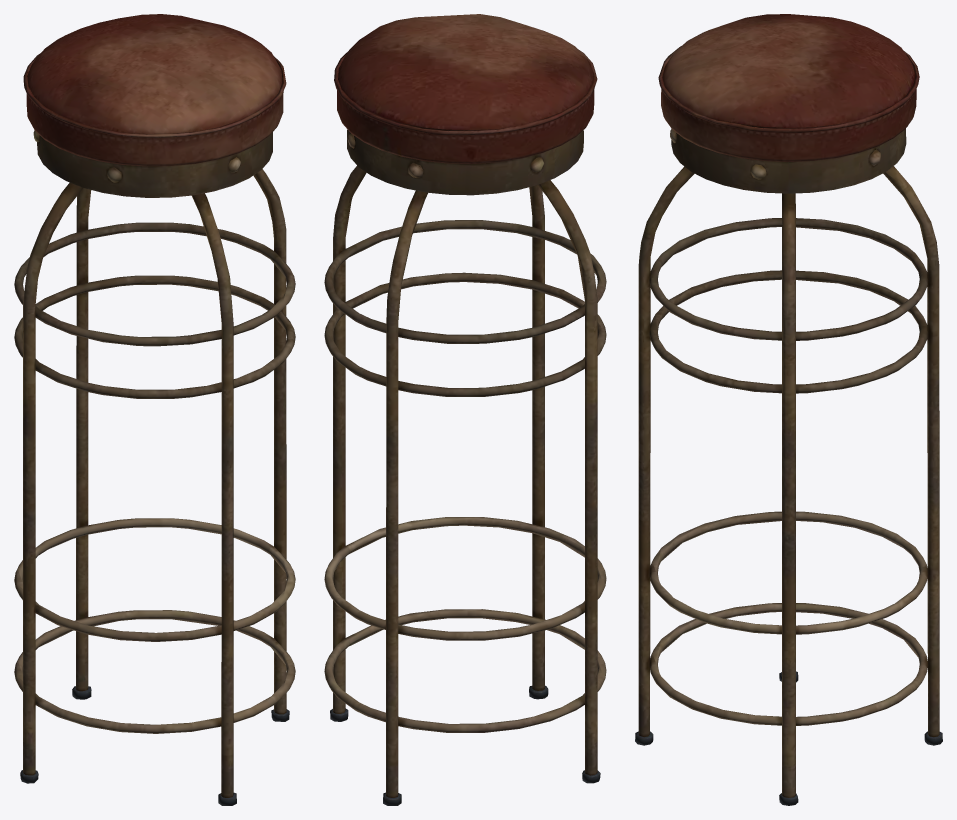
File: metalStool.glb
3 views of the same model, side by side, from view 1: azimuth 30°, elevation 25°; view 2: azimuth 150°, elevation 25°; view 3: azimuth 270°, elevation 25° (orthographic).
Parts seen in each view (by area): view 1: metal_stool_01; view 2: metal_stool_01; view 3: metal_stool_01.
Part boxes in pixels (x1,y1,x2,y2): metal_stool_01: (14, 14, 295, 805); metal_stool_01: (324, 14, 606, 805); metal_stool_01: (635, 14, 942, 805).
Bounding box in the file's own units: 0.351 × 0.8823 × 0.3538.
Materials: 1 (1 with a texture image).
